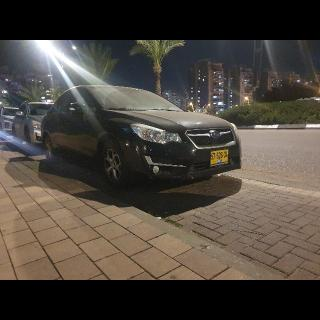LicensePlate: (210, 149, 229, 160)
